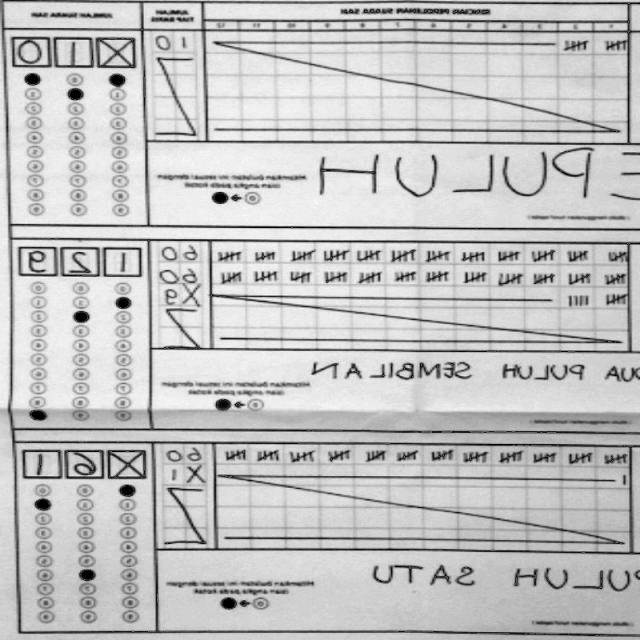Suara: (16, 238, 145, 276), (12, 31, 138, 68), (23, 446, 149, 480)
